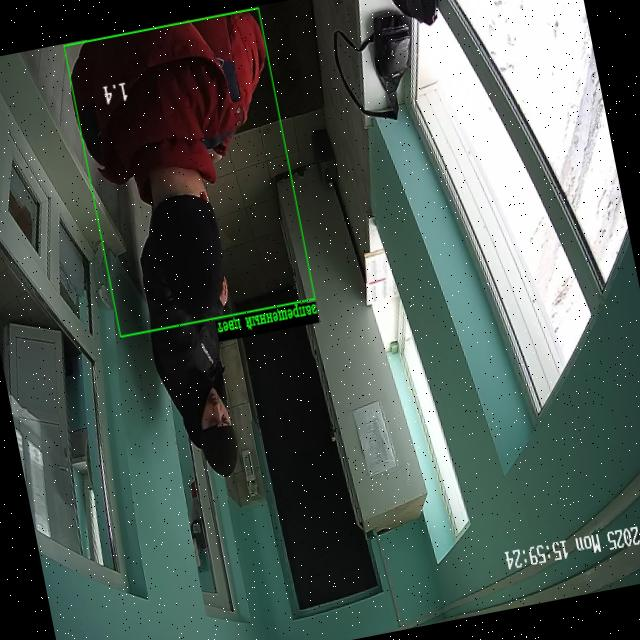Person: (151, 321, 238, 477), (141, 220, 190, 328)
Red uniform: (72, 12, 266, 315)
